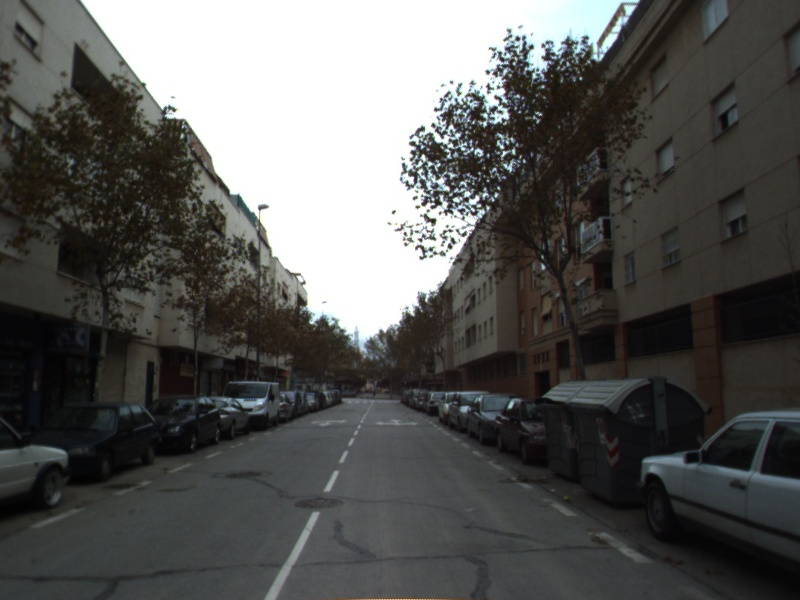STRAIGHT_LEFT_RIGHT: (373, 416, 420, 429)
